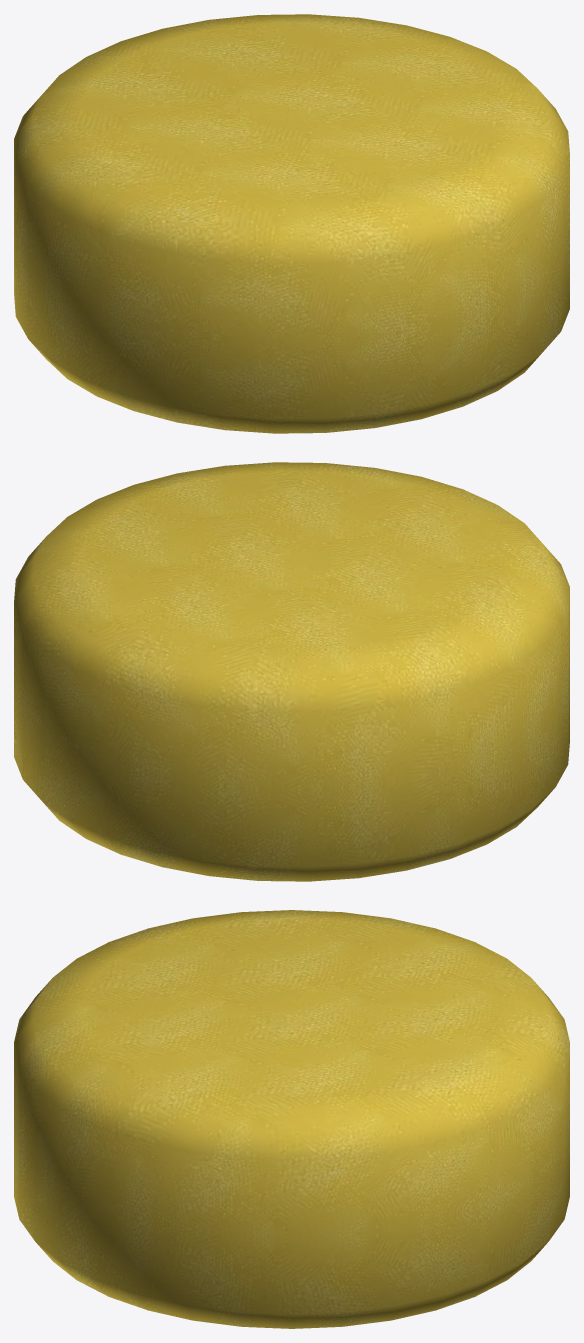
Rendered from Food_Cheese_Wheel.glb.
The picture shows the model from 3 angles, top to bottom: view 1: azimuth 30°, elevation 25°; view 2: azimuth 150°, elevation 25°; view 3: azimuth 270°, elevation 25°; orthographic projection.
Visible parts, largest first — view 1: Food_Cheese_Wheel; view 2: Food_Cheese_Wheel; view 3: Food_Cheese_Wheel.
Boxes of the visible parts, x1=… form: Food_Cheese_Wheel: x1=14, y1=14, x2=569, y2=433; Food_Cheese_Wheel: x1=14, y1=462, x2=569, y2=881; Food_Cheese_Wheel: x1=14, y1=910, x2=569, y2=1328.
Bounding box in the file's own units: 0.3615 × 0.1601 × 0.3615.
Materials: 1 (1 with a texture image).
